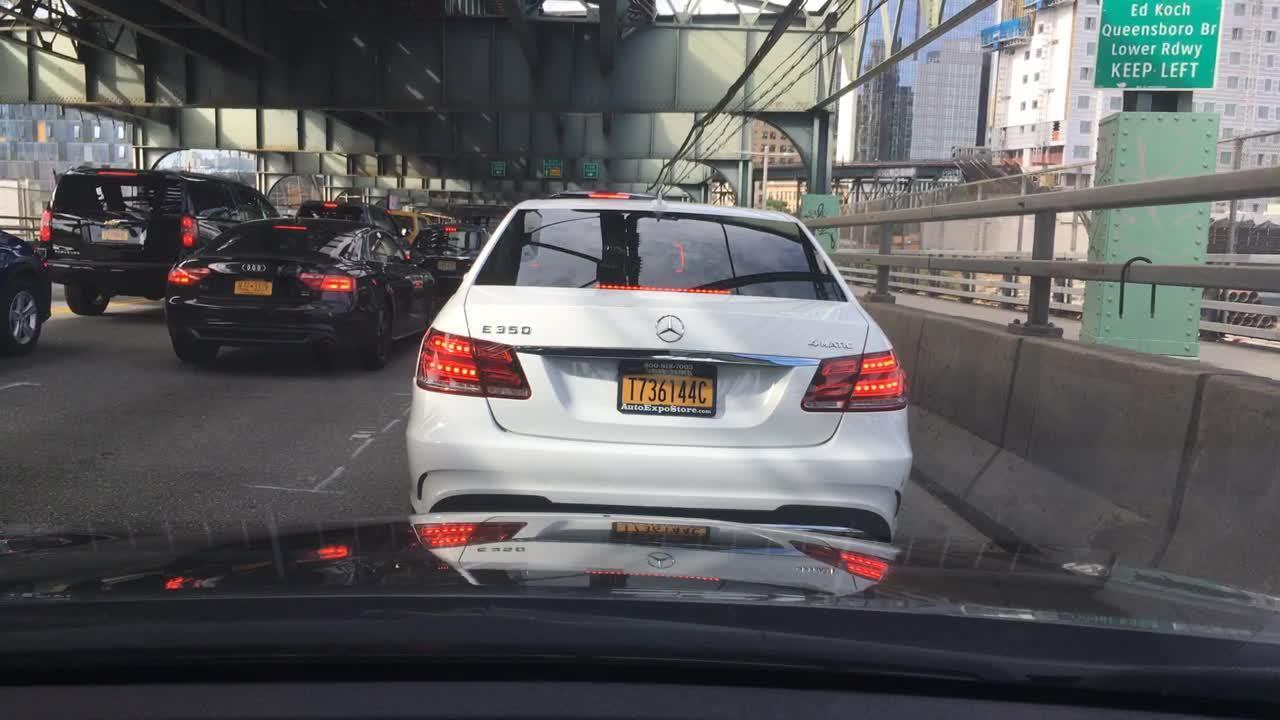Mercedes: (652, 310, 689, 348)
